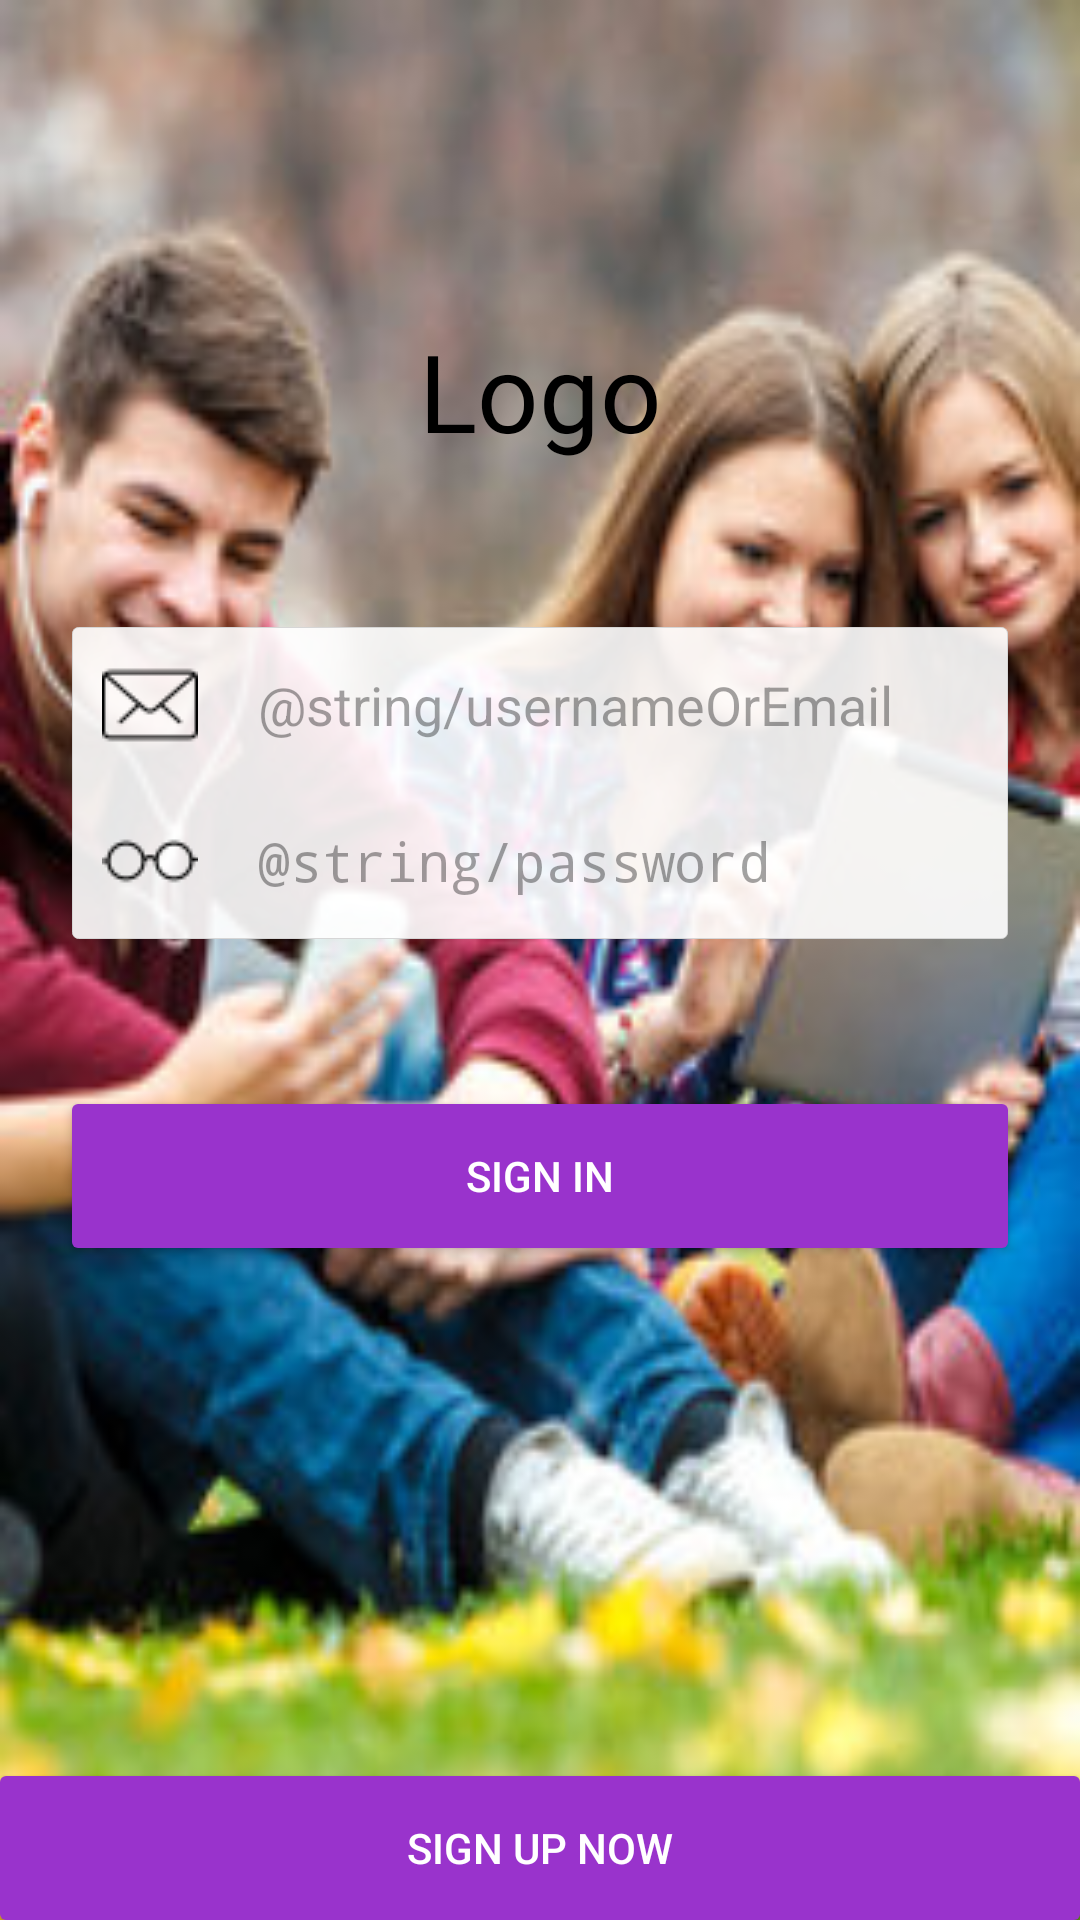

Point at icon controls on the screen. Image size 1080px×1920px, points as (x,y).
mail: (150,705)
